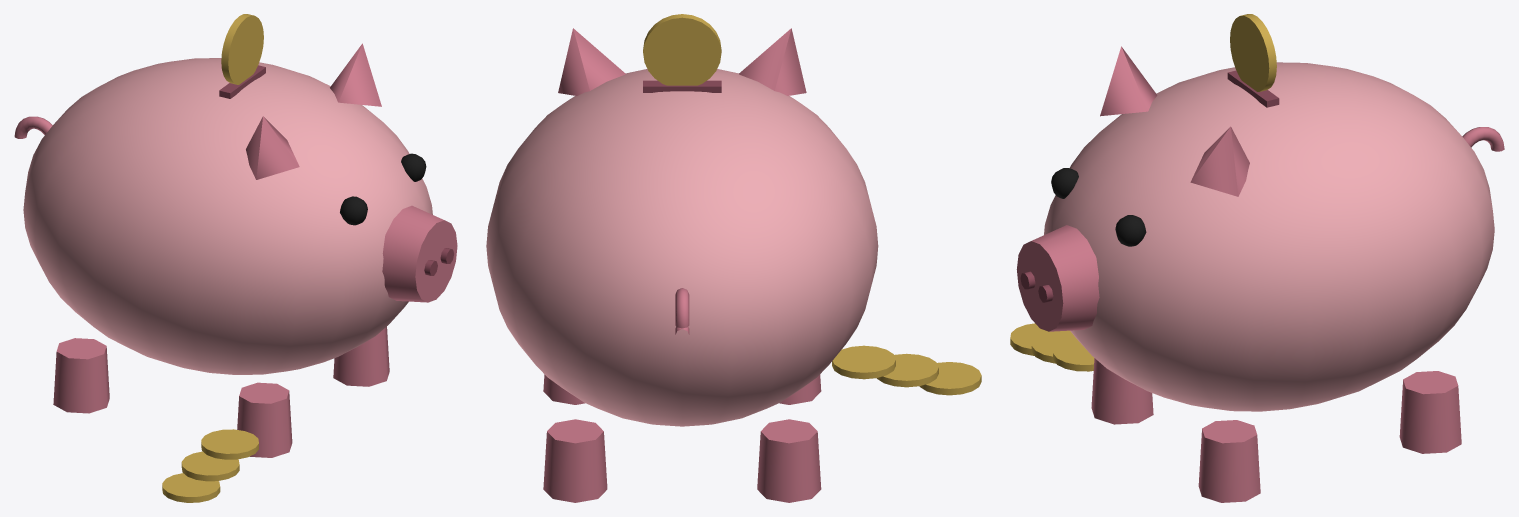
Rendered from piggy_bank.glb.
3 renders of one model, left to right at view 1: azimuth 30°, elevation 25°; view 2: azimuth 150°, elevation 25°; view 3: azimuth 270°, elevation 25°, orthographic. The views are drawn at different scales.
Bounding box in the file's own units: 1.17 × 1.28 × 1.38.
